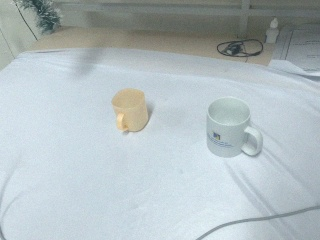bottle: (264, 17, 280, 45)
cup: (204, 95, 265, 160), (111, 88, 150, 133)
